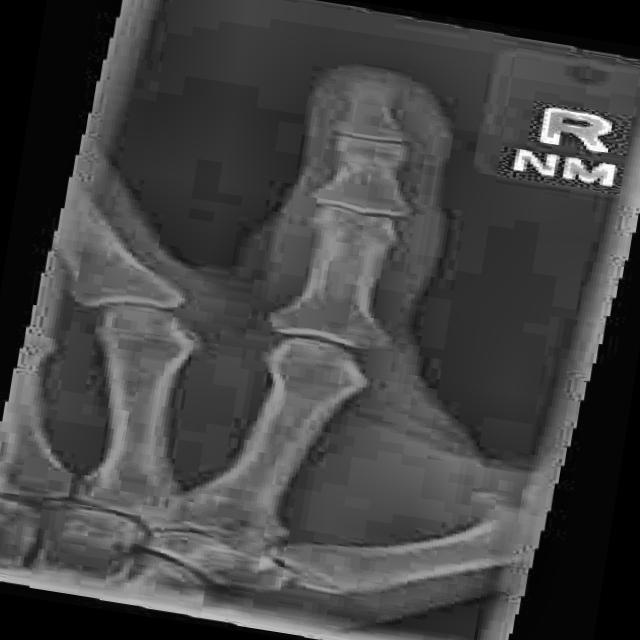fingers positive: (311, 136, 443, 220)
